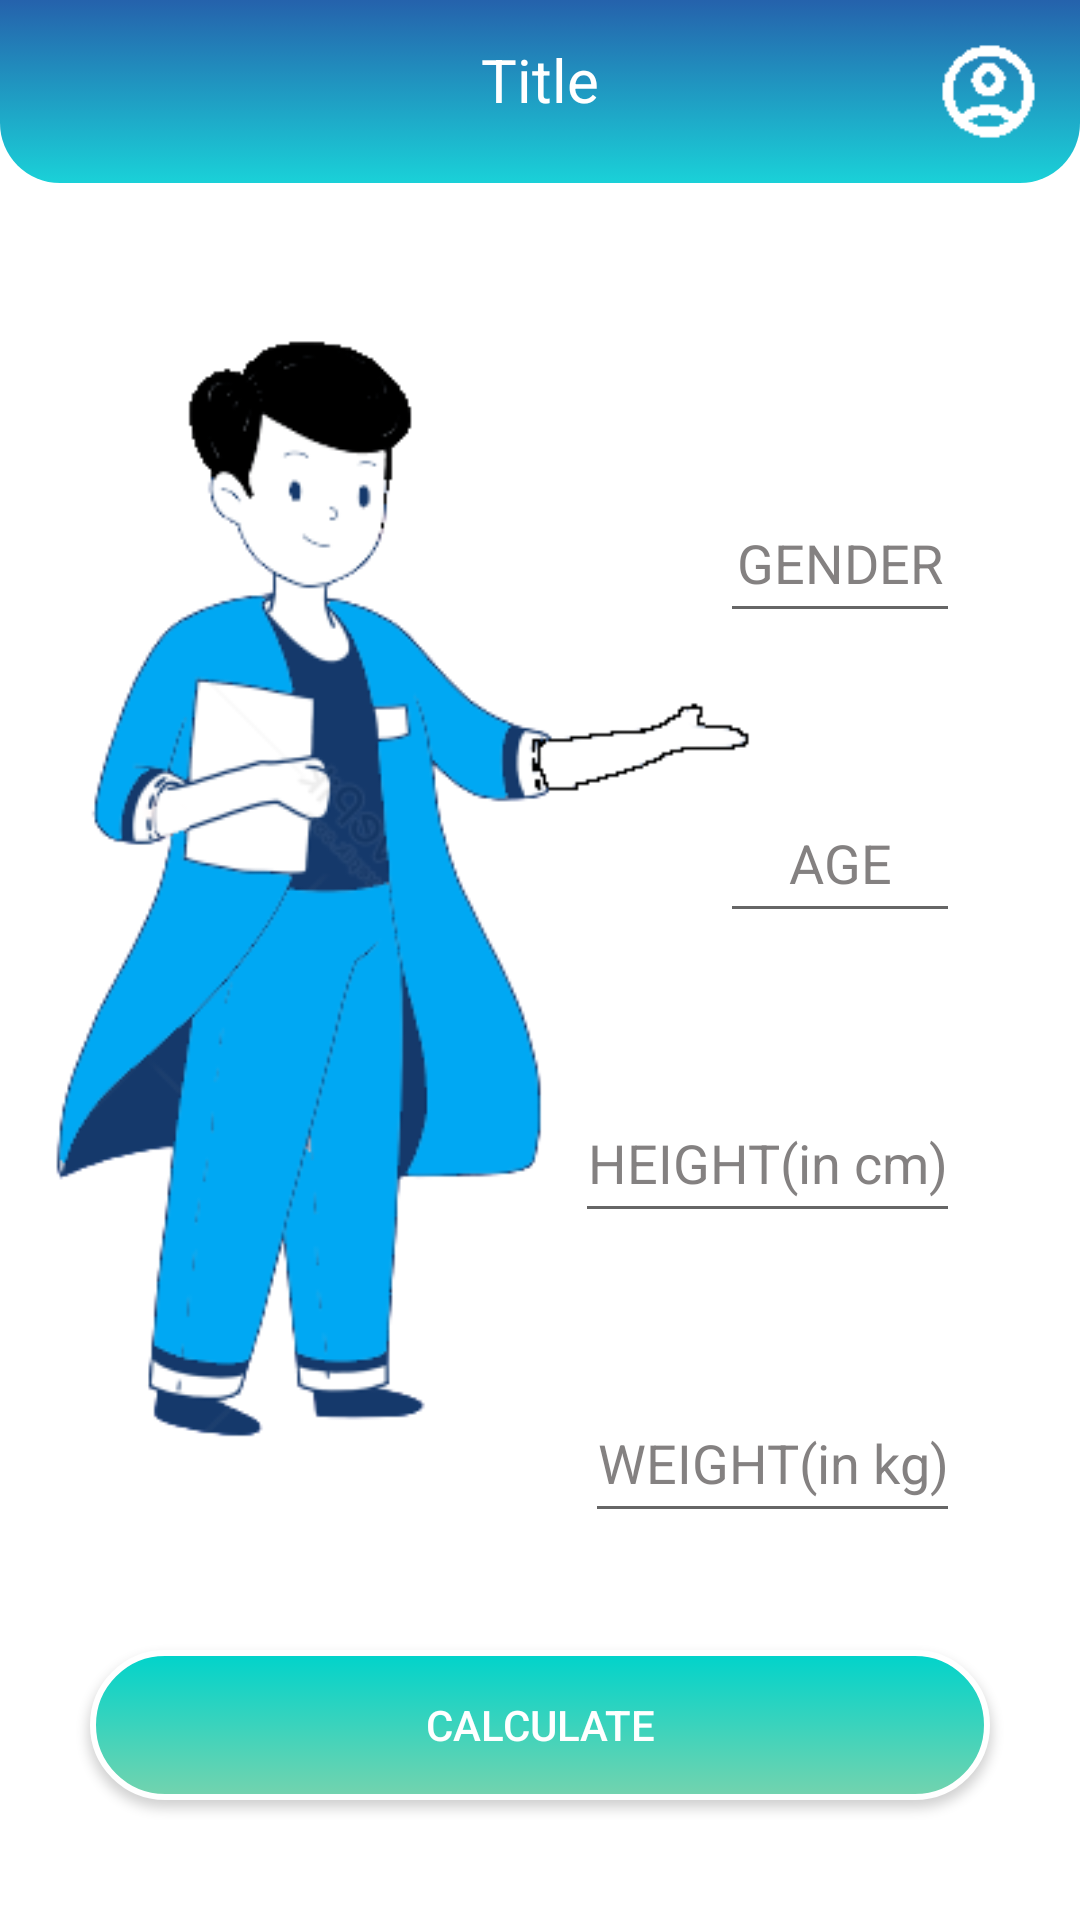

Icons on this 1080px x 1920px Android screen, each with the point to tap as point (x, y):
profilebtn: point (988, 91)
